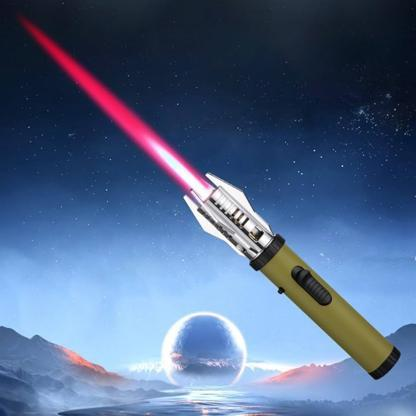sith_lightsaber: (18, 8, 408, 393)
